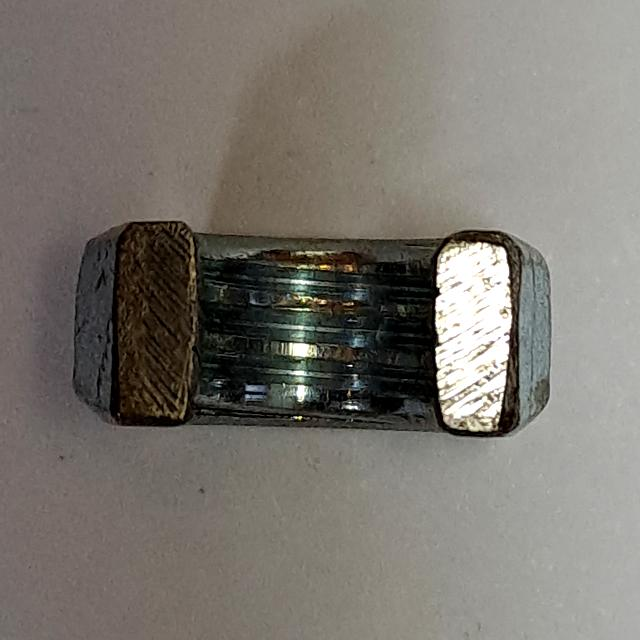Side-Fracture: (51, 186, 572, 474)
